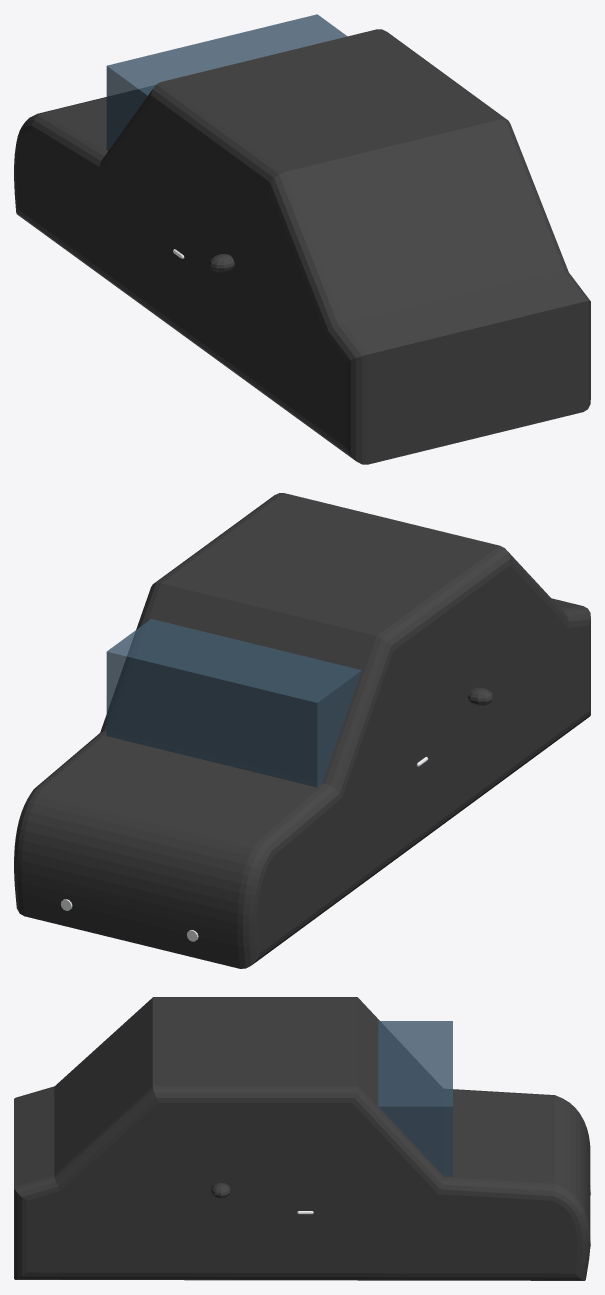
The model's file is veh_trilha.glb.
The picture shows the model from 3 angles, top to bottom: view 1: azimuth 30°, elevation 25°; view 2: azimuth 150°, elevation 25°; view 3: azimuth 270°, elevation 25°; orthographic projection. The views are drawn at different scales.
Parts seen in each view (by area): view 1: veh_trilha; view 2: veh_trilha; view 3: veh_trilha.
Boxes of the visible parts, x1,y1,x2,y2 form: veh_trilha: (14, 14, 590, 464); veh_trilha: (14, 493, 590, 968); veh_trilha: (14, 997, 590, 1280).
Size of the model in its own units: 2.33 by 1.84 by 4.95.
